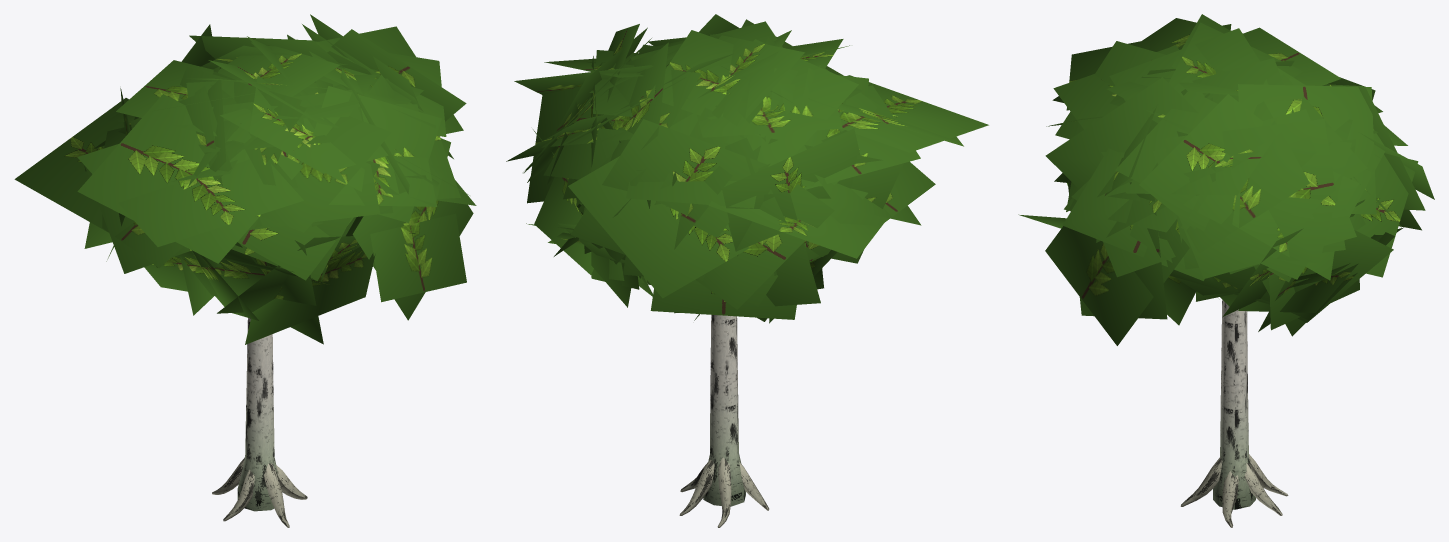
Rendered from tree_young_lod.glb.
3 renders of one model, left to right at view 1: azimuth 30°, elevation 25°; view 2: azimuth 150°, elevation 25°; view 3: azimuth 270°, elevation 25°, orthographic.
Visible parts, largest first — view 1: Leaves, Trunk, Roots; view 2: Leaves, Trunk, Roots; view 3: Leaves, Trunk, Roots.
Boxes of the visible parts, x1,y1,x2,y2 form: Leaves: (14,14,476,344); Trunk: (237,318,277,511); Roots: (212,457,307,527); Leaves: (506,14,988,323); Trunk: (703,315,745,506); Roots: (679,457,769,527); Leaves: (1018,14,1434,345); Trunk: (1213,300,1255,509); Roots: (1180,454,1288,527).
Size of the model in its own units: 3.86 by 4.27 by 3.54.
Materials: 2 (2 with a texture image).
